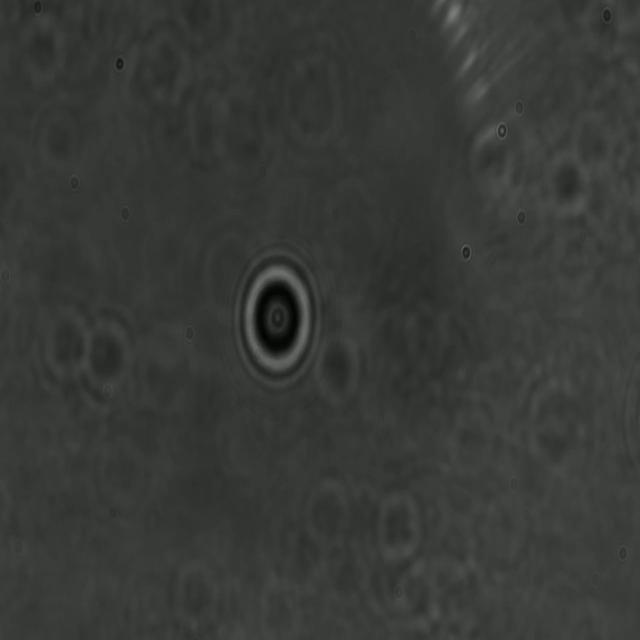LCELL: (232, 247, 324, 393)
